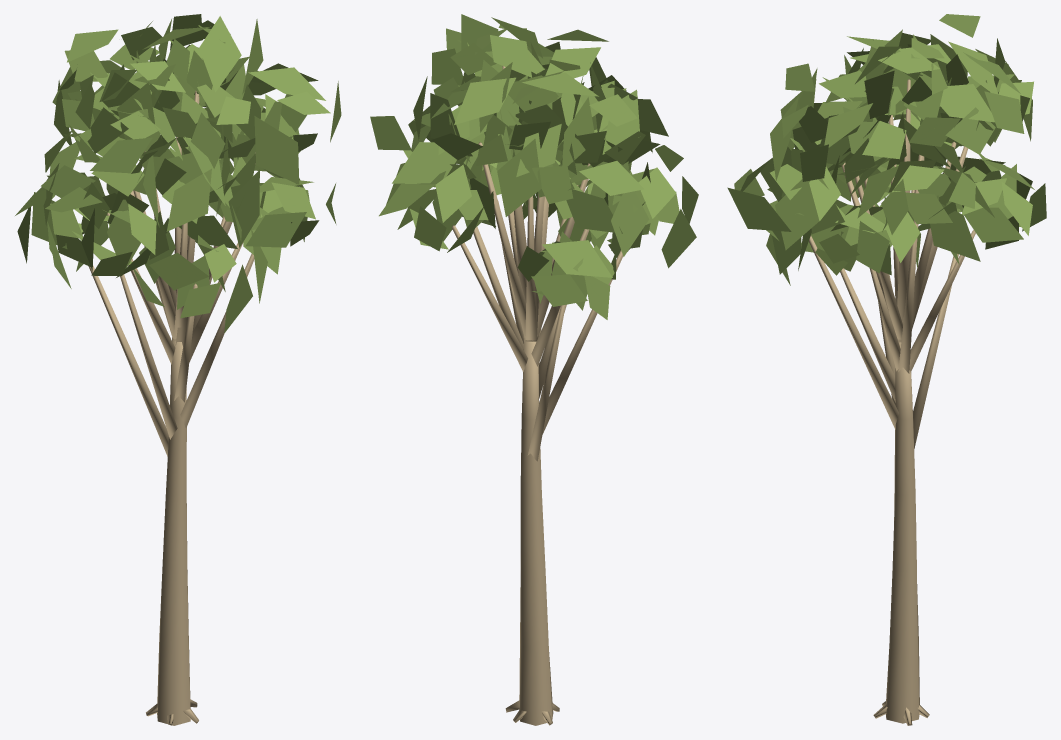
Rendered from birch-single-lod2.glb.
3 views of the same model, side by side, from view 1: azimuth 30°, elevation 25°; view 2: azimuth 150°, elevation 25°; view 3: azimuth 270°, elevation 25° (orthographic).
Visible parts, largest first — view 1: tree_birch-single_LOD2; view 2: tree_birch-single_LOD2; view 3: tree_birch-single_LOD2.
Part boxes in pixels (x1,y1,x2,y2): tree_birch-single_LOD2: [15, 14, 341, 725]; tree_birch-single_LOD2: [370, 14, 698, 725]; tree_birch-single_LOD2: [727, 14, 1046, 725].
Size of the model in its own units: 5.42 by 12.61 by 5.28.
